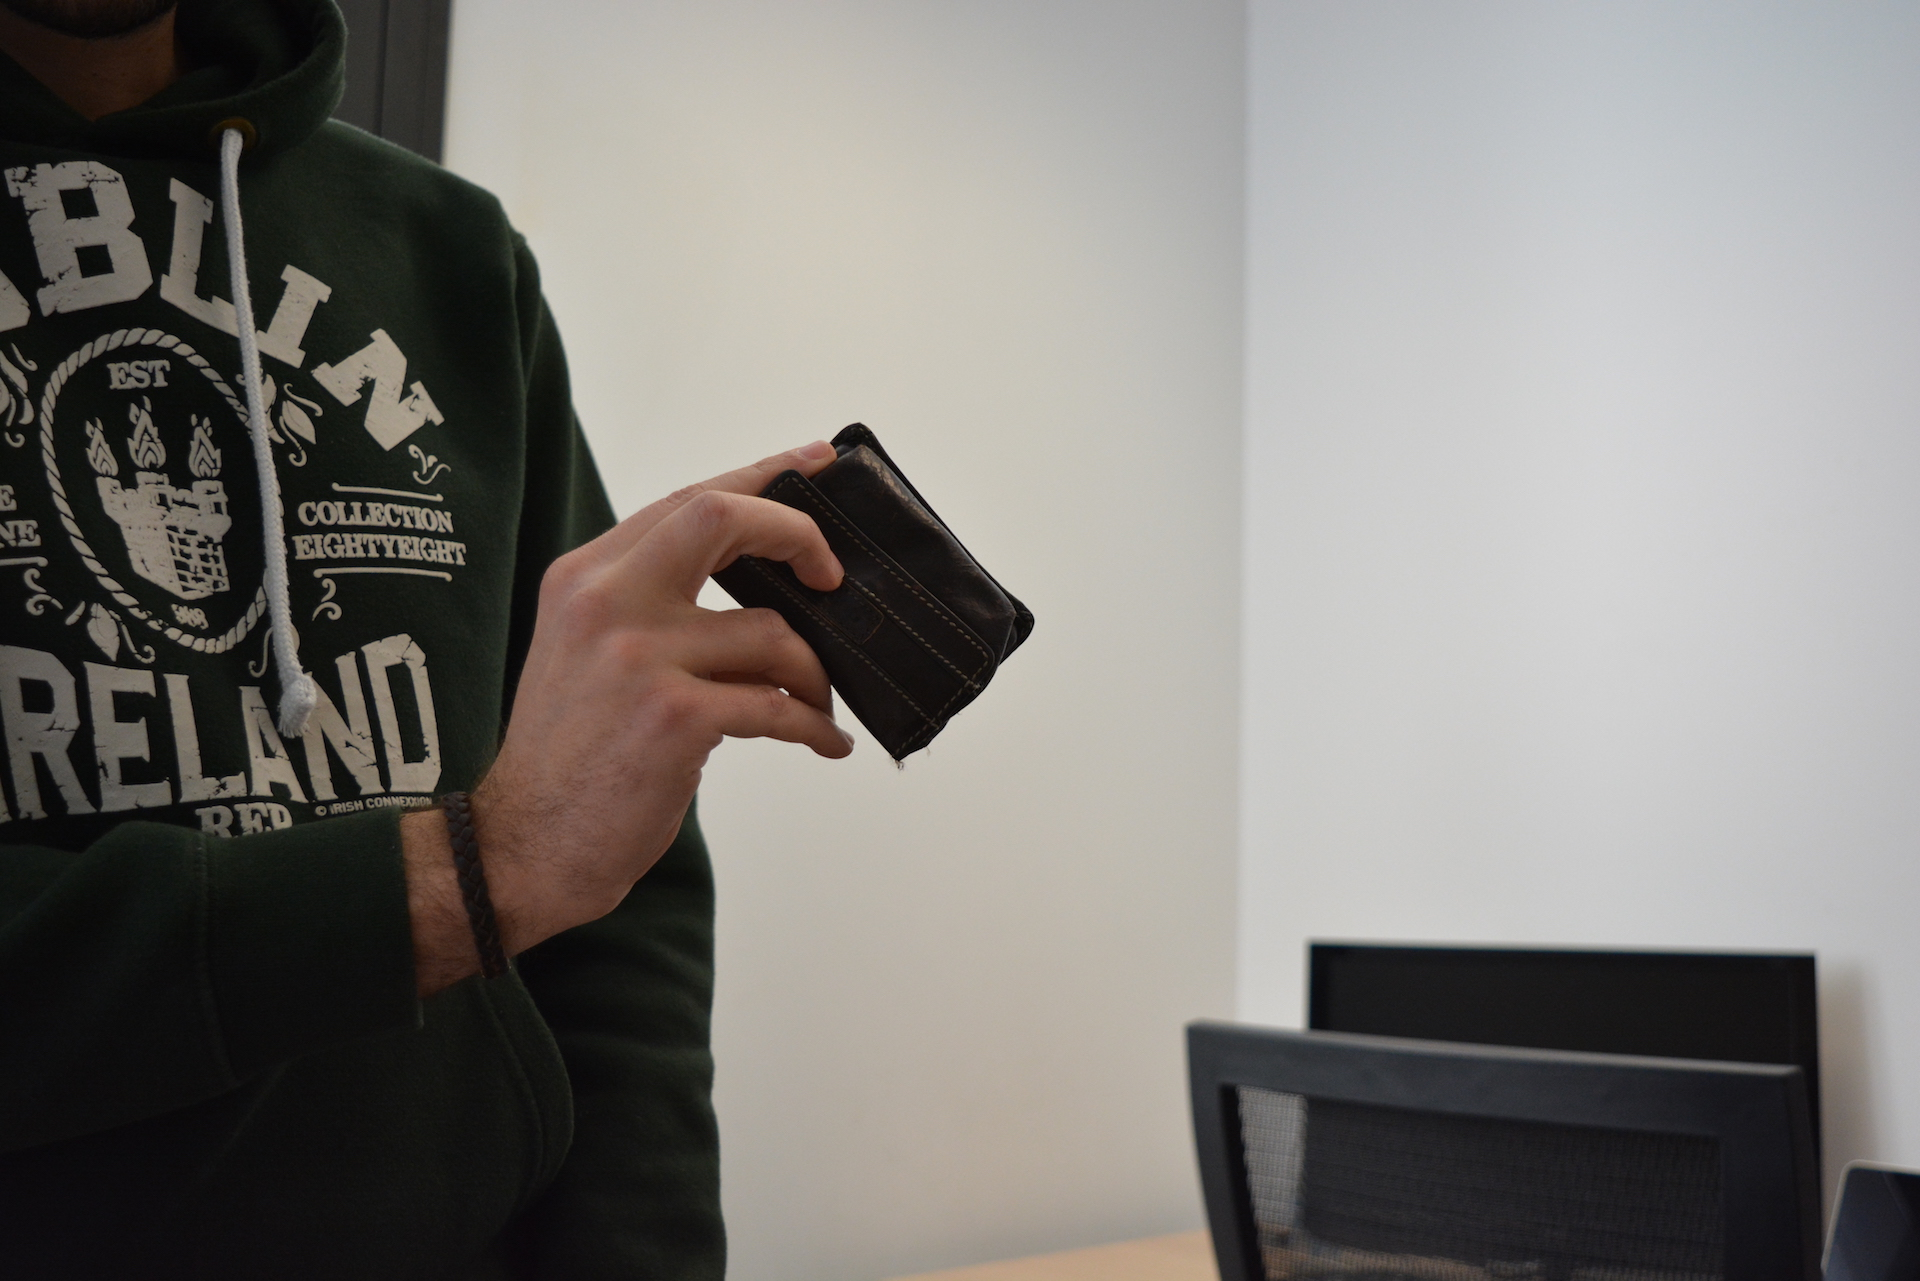monedero: (708, 420, 1038, 766)
